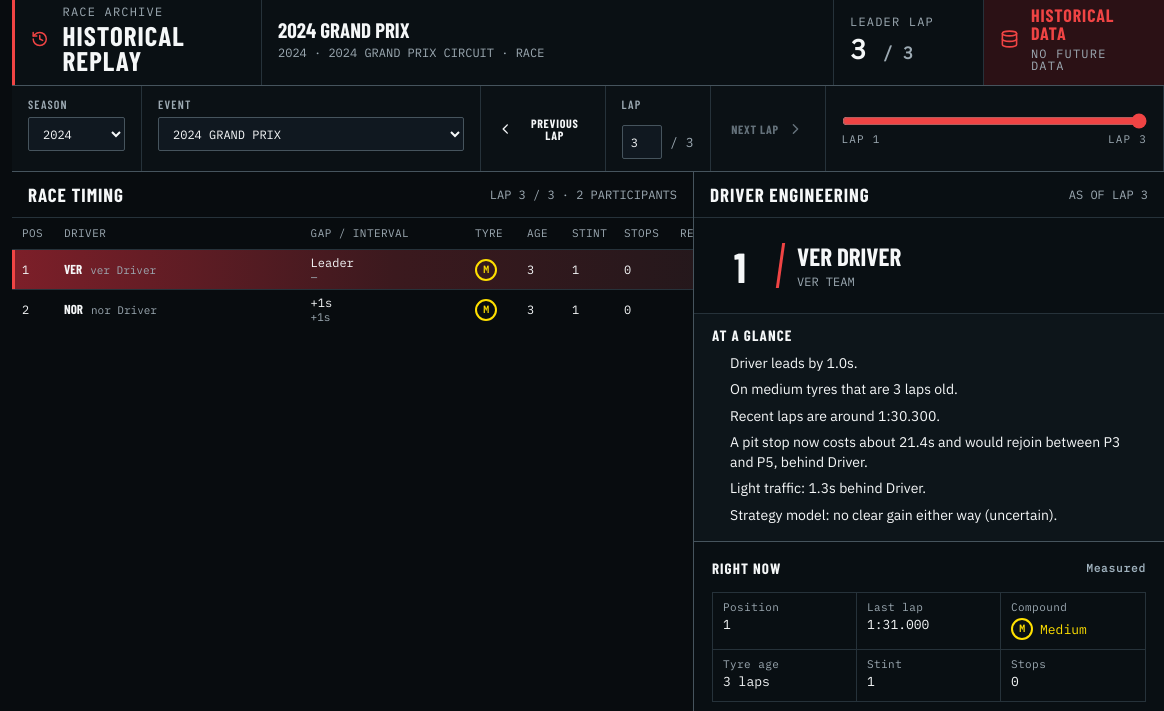
Test: ReplayWorkspace › changes engineering analysis with driver and leader lap
Click the option "2 NOR nor Driver +1s +1s M 3 1 0 1:31.200 Running" at (124, 310), box [12,289,882,329]
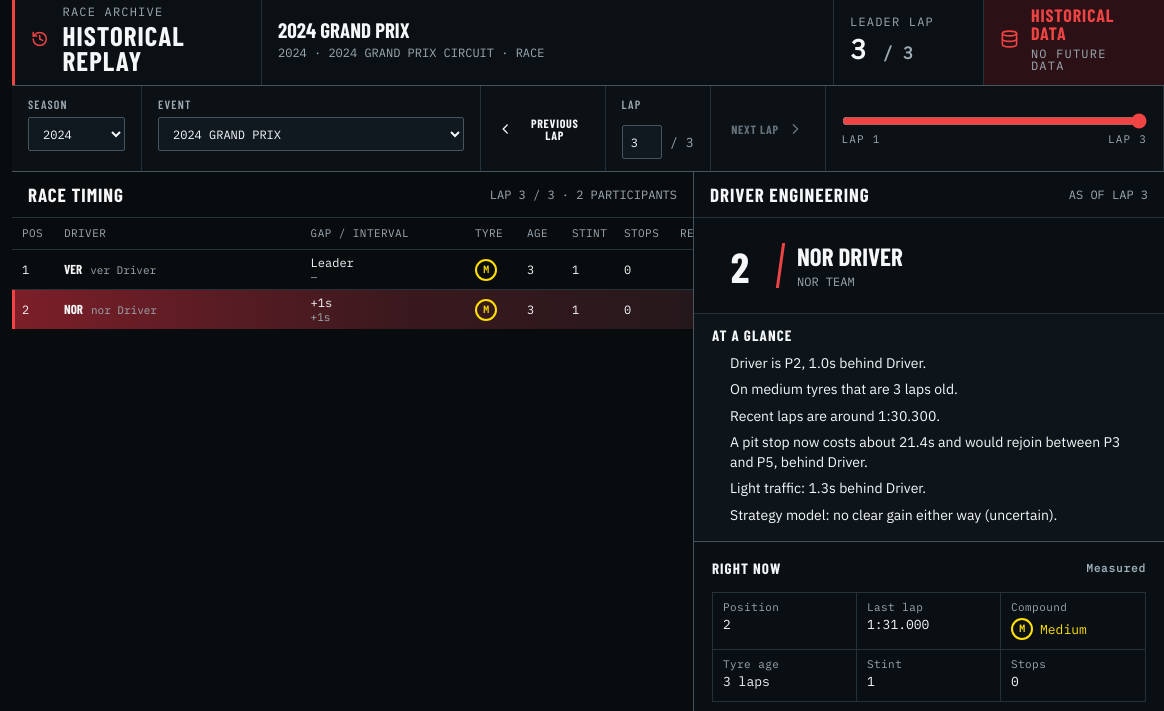
Expected: the text "nor Driver" below "Gap / interval" is shown, [91,303,157,317]
Click the button "Previous lap" at (543, 128), box [480,86,606,171]
(page scrolled)
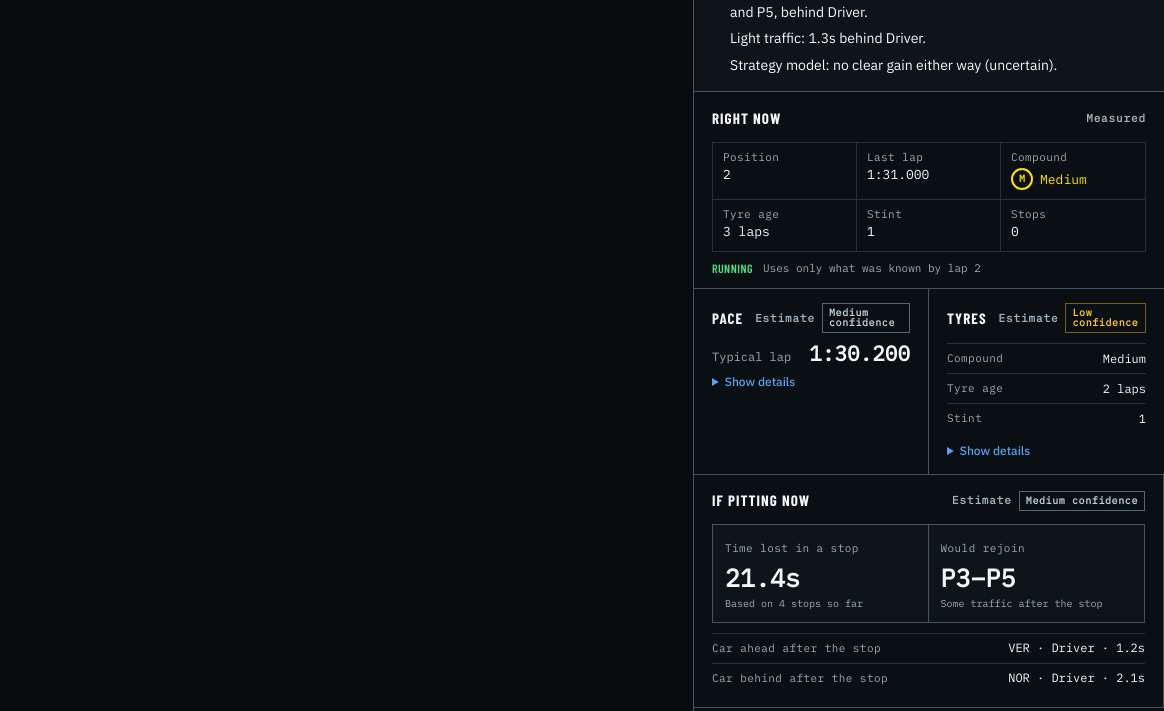
Now the text "1:30.200" is shown, box [809,343,910,364]
